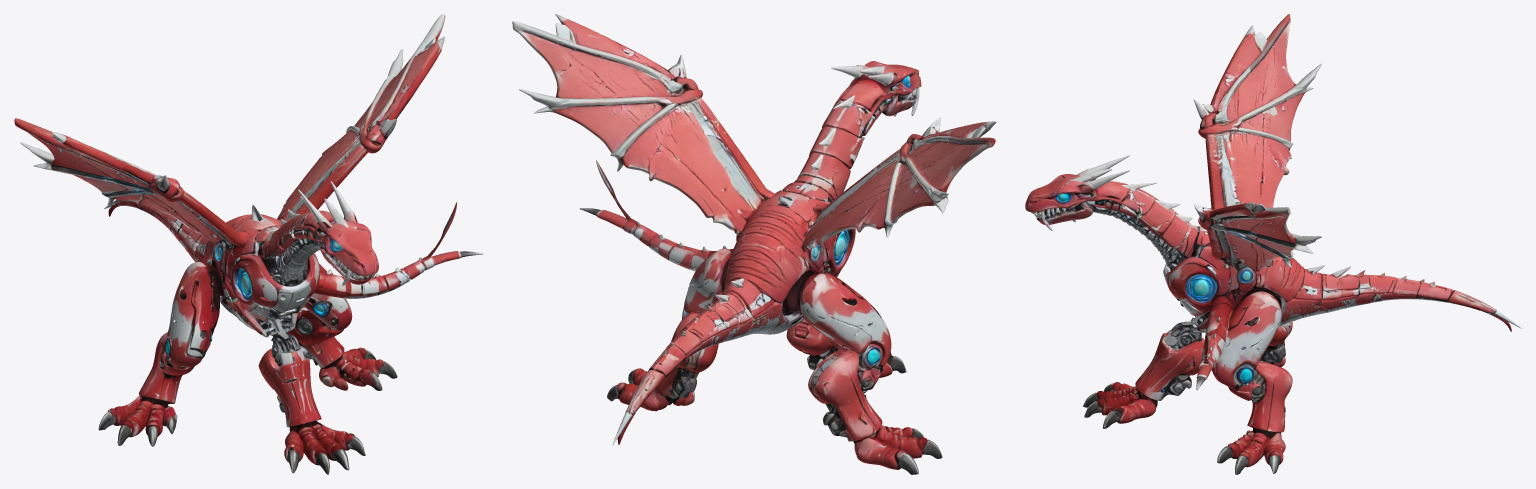
The picture shows the model from 3 angles, left to right: view 1: azimuth 30°, elevation 25°; view 2: azimuth 150°, elevation 25°; view 3: azimuth 270°, elevation 25°; orthographic projection. The views are drawn at different scales.
Visible parts, largest first — view 1: model; view 2: model; view 3: model.
Boxes of the visible parts, x1=… form: model: x1=14, y1=14, x2=482, y2=474; model: x1=512, y1=14, x2=996, y2=474; model: x1=1025, y1=14, x2=1521, y2=474.
Bounding box in the file's own units: 1.77 × 1.28 × 1.9.
Materials: 1 (1 with a texture image).
